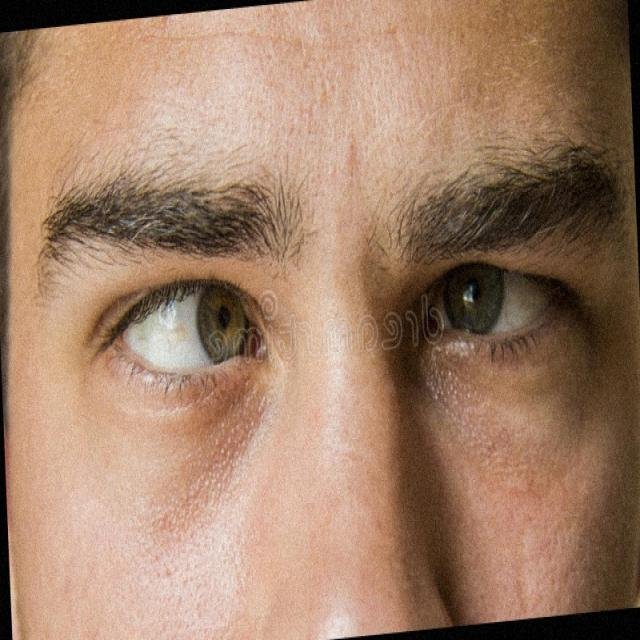Healthy-Eye: (390, 246, 587, 373)
Squint: (100, 253, 269, 402)
